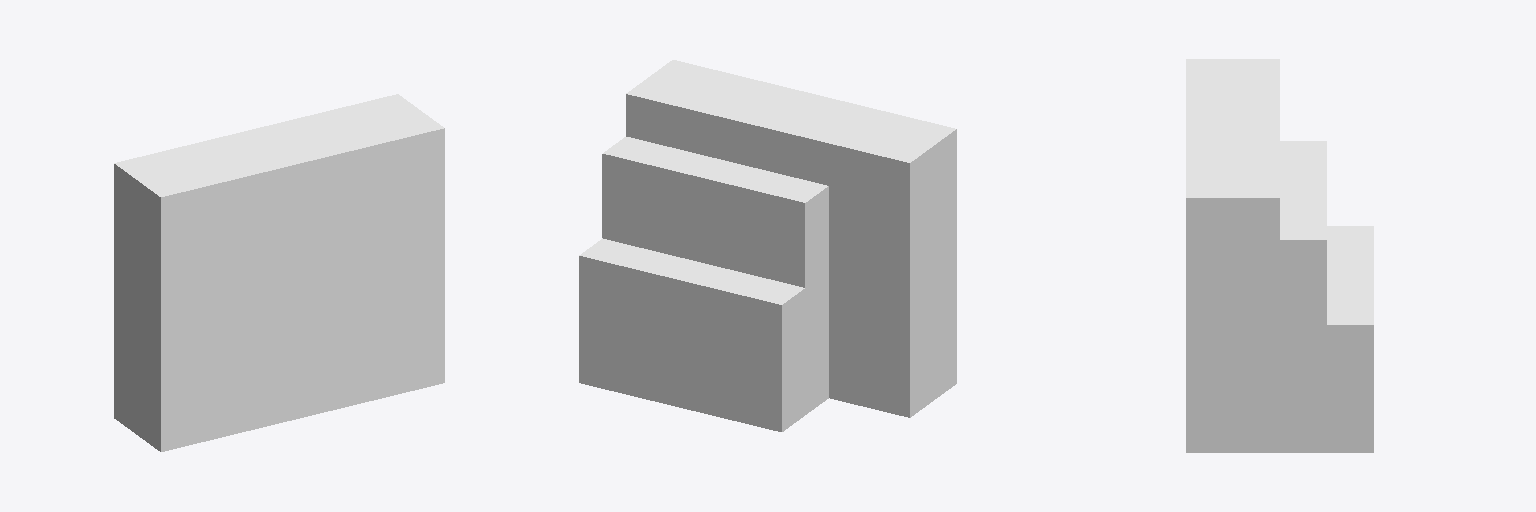
The model's file is Character1_LeftArm.obj.
3 views of the same model, side by side, from view 1: azimuth 30°, elevation 25°; view 2: azimuth 150°, elevation 25°; view 3: azimuth 270°, elevation 25° (orthographic).
Visible parts, largest first — view 1: object 1; view 2: object 1; view 3: object 1.
Boxes of the visible parts, box(x1,y1,x2,y2) form: object 1: box(114, 94, 444, 451); object 1: box(579, 60, 956, 431); object 1: box(1186, 59, 1373, 452).
Size of the model in its own units: 0.7 by 0.6 by 0.4.